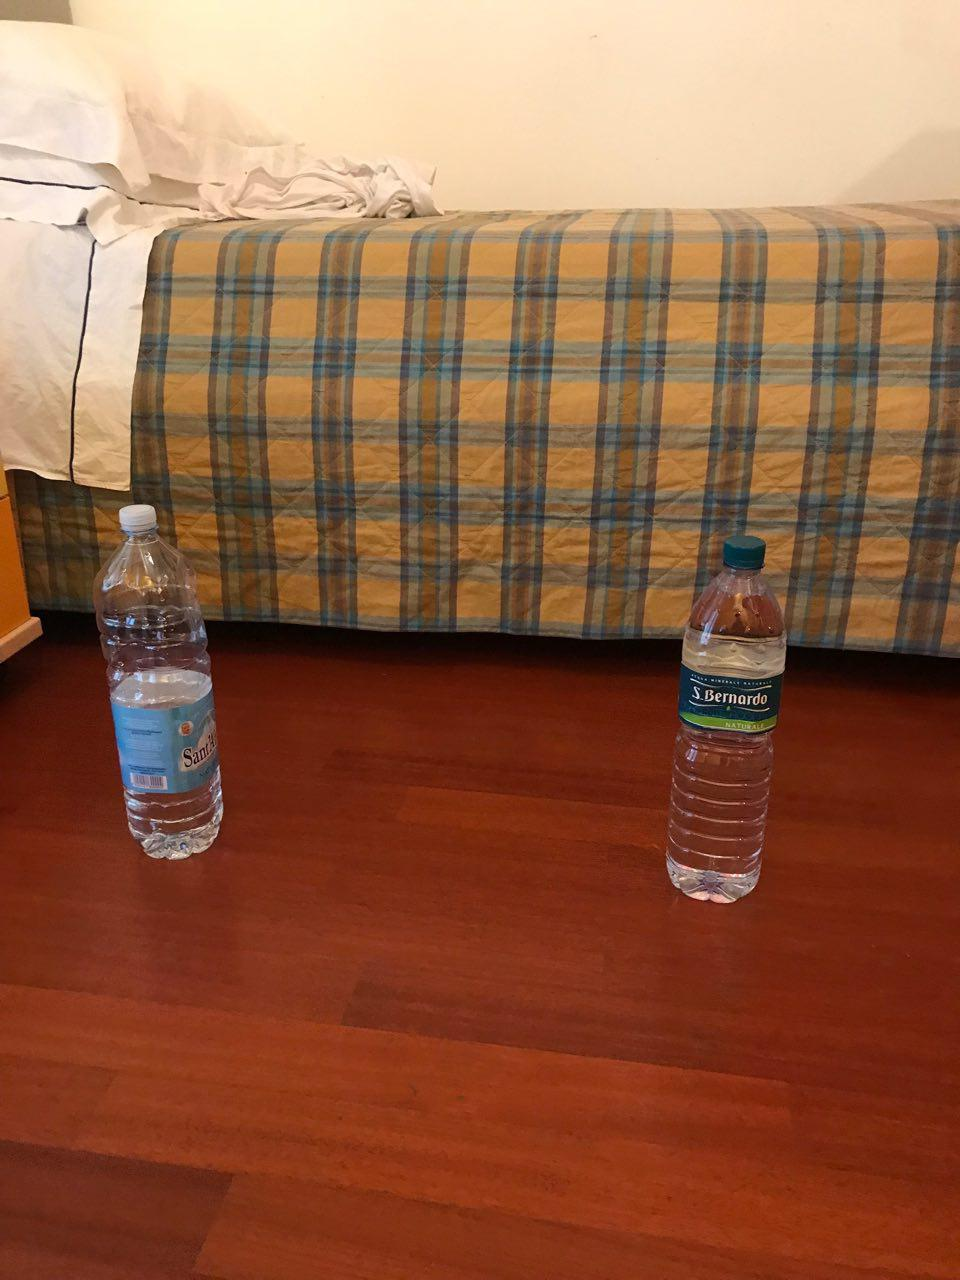san_bernardo: (664, 534, 787, 905)
